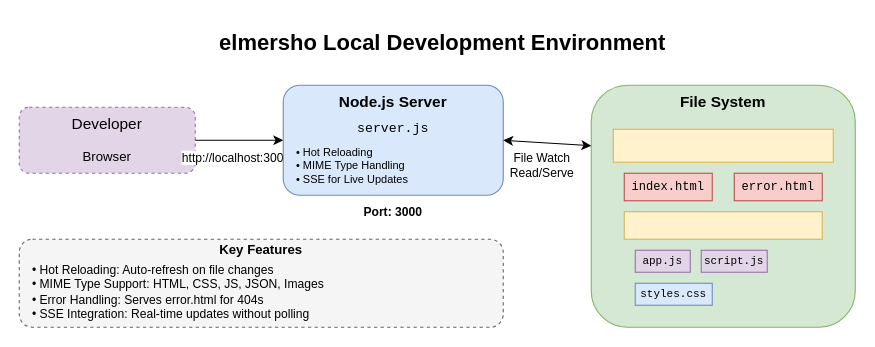
The diagram is 875 pixels wide and 347 high, and some of its shapes have lost their labels. Here are the shapes that lost their labels. From the top down, the centre of each, then its label:
At (722,145): "public-www/".
At (722,225): "assets/".
